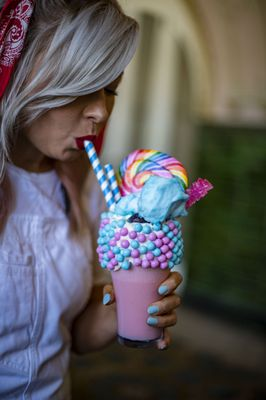pizza: (110, 267, 173, 348)
